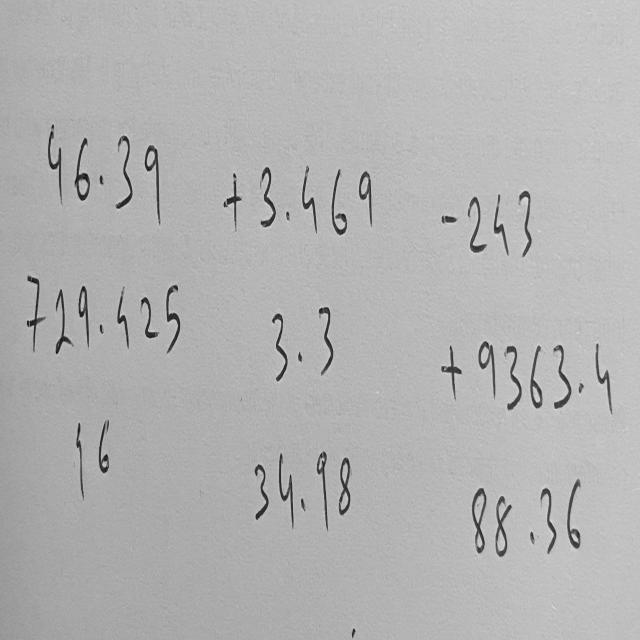Number: (22, 259, 185, 365), (437, 326, 617, 420), (216, 145, 384, 242), (42, 110, 167, 237), (469, 467, 583, 562), (247, 443, 355, 541), (436, 179, 542, 272), (263, 292, 334, 391), (67, 406, 118, 506)
